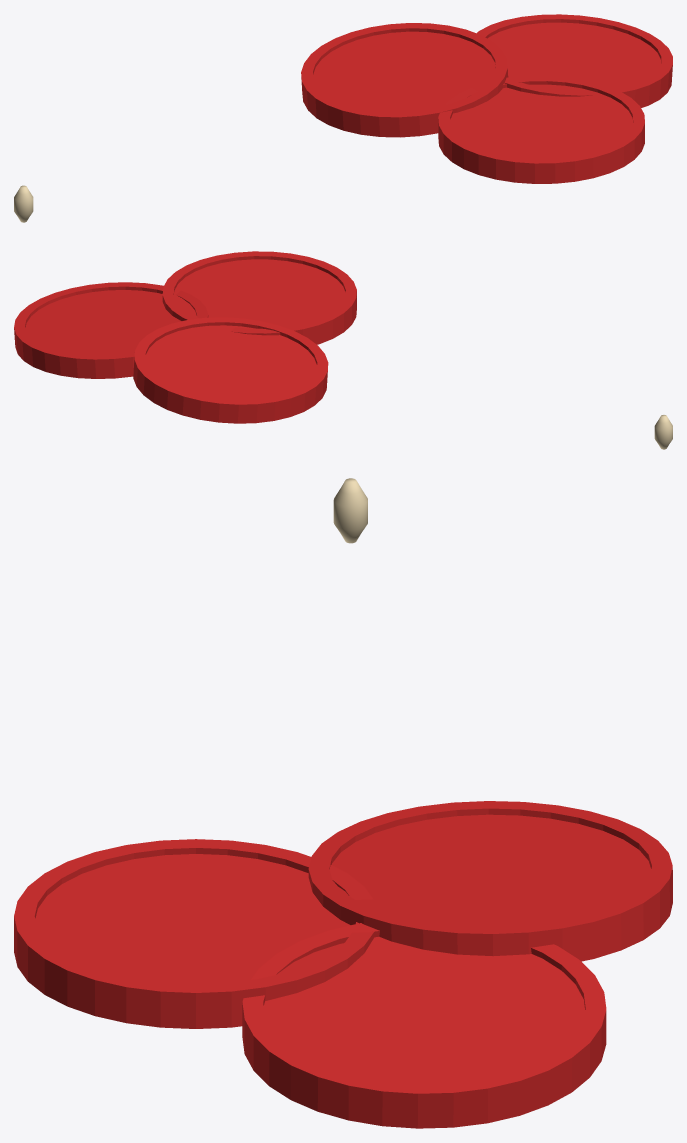
File: tomates.glb
The picture shows the model from 3 angles, top to bottom: view 1: azimuth 30°, elevation 25°; view 2: azimuth 150°, elevation 25°; view 3: azimuth 270°, elevation 25°; orthographic projection. The views are drawn at different scales.
Parts seen in each view (by area): view 1: Tomate_01, Tomate_03, Tomate_02, SEMILLA; view 2: Tomate_01, Tomate_03, Tomate_02, SEMILLA; view 3: Tomate_02, Tomate_03, Tomate_01, SEMILLA.
Part boxes in pixels (left/top/right/bottom): Tomate_01: left=301, top=23, right=508, bottom=137; Tomate_03: left=438, top=76, right=644, bottom=183; Tomate_02: left=477, top=14, right=672, bottom=107; SEMILLA: left=14, top=185, right=33, bottom=222; Tomate_01: left=133, top=317, right=328, bottom=423; Tomate_03: left=162, top=251, right=356, bottom=344; Tomate_02: left=14, top=282, right=208, bottom=378; SEMILLA: left=654, top=415, right=672, bottom=449; Tomate_02: left=242, top=923, right=606, bottom=1128; Tomate_03: left=14, top=839, right=374, bottom=1028; Tomate_01: left=308, top=801, right=672, bottom=961; SEMILLA: left=333, top=478, right=367, bottom=543.
Bounding box in the file's own units: 11.8 × 0.826 × 5.76.
